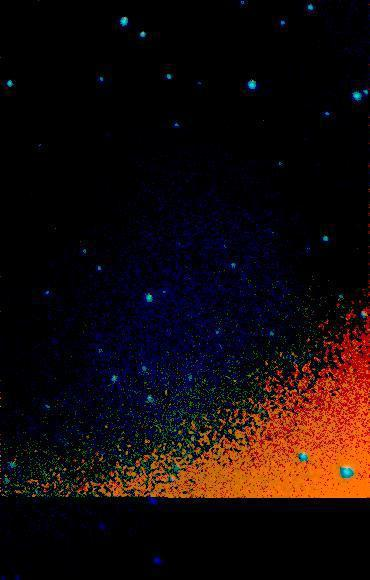star: (249, 102, 279, 132)
